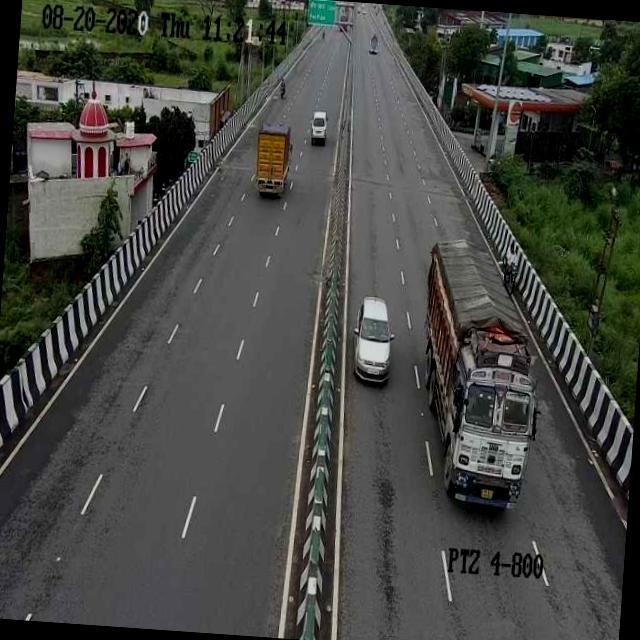car: (346, 286, 400, 386), (306, 106, 331, 147)
